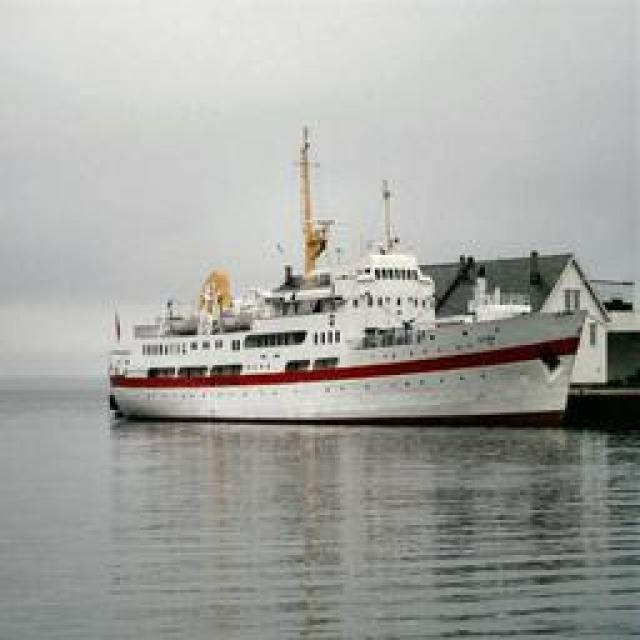CIV_Ship: (114, 167, 588, 425)
